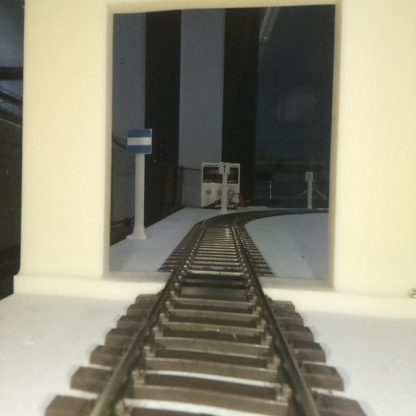start: (127, 128, 151, 238)
white-info-1: (219, 162, 229, 213)
